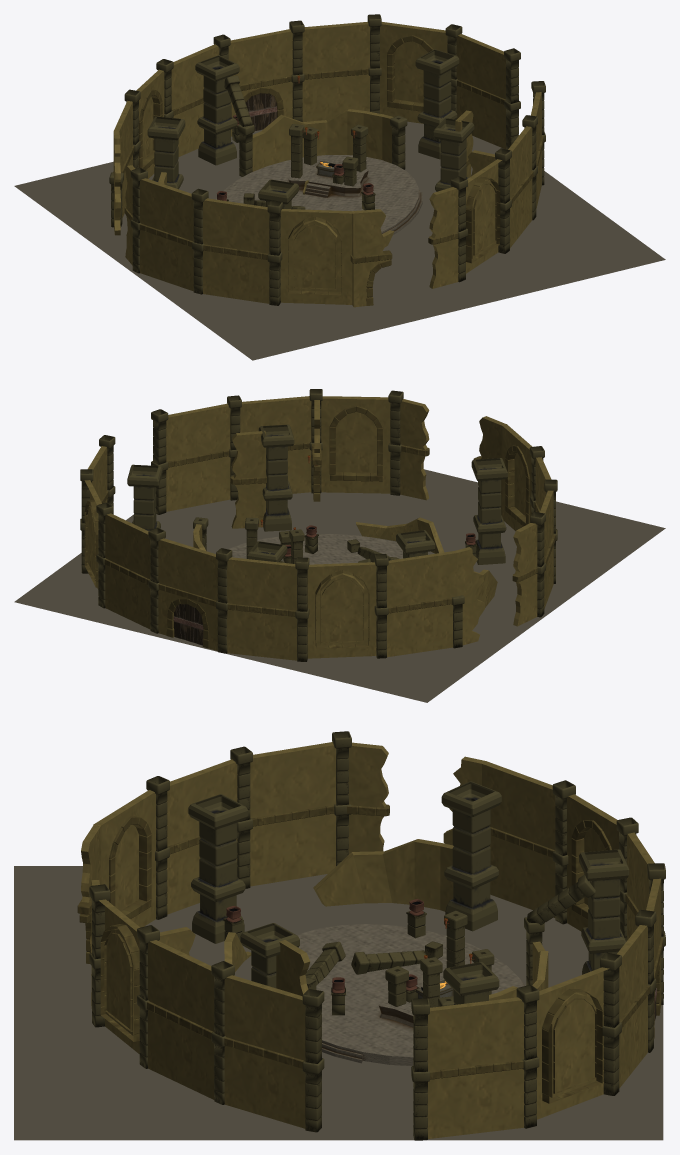
Rendered from Main_Salon_REF.fbx.
3 renders of one model, top to bottom at view 1: azimuth 30°, elevation 25°; view 2: azimuth 150°, elevation 25°; view 3: azimuth 270°, elevation 25°, orthographic. The views are drawn at different scales.
Visible parts, largest first — view 1: Plane, Main_Salon_Altar, Wall_Salon_4.003, Wall_1.011, Wall_1.006, Wall_1.010, Wall_Salon, Wall_Salon_4.002, Wall_1.004, Wall_Salon_5, Pillar.005, Wall_Salon_4.001 (+31 smaller); view 2: Plane, Wall_1.007, Wall_Salon_4.001, Wall_1.009, Wall_Salon_4, Wall_1.002, Wall_Salon_5, Wall_1.006, Wall_1.001, Pillar.002, Wall_3.004, Pillar.001 (+30 smaller); view 3: Plane, Wall_1.004, Main_Salon_Altar, Wall_1.010, Wall_1.002, Wall_1.001, Wall_Salon_4.002, Wall_1.009, Wall_Salon_3, Wall_Salon_4.003, Pillar.004, Pillar.002 (+38 smaller).
Boxes of the visible parts, box(x1,y1,x2,y2) form: Plane: box(14, 121, 665, 360); Main_Salon_Altar: box(216, 155, 422, 234); Wall_Salon_4.003: box(280, 209, 353, 304); Wall_1.011: box(202, 198, 269, 303); Wall_1.006: box(302, 21, 369, 121); Wall_1.010: box(139, 178, 193, 291); Wall_Salon: box(252, 109, 393, 171); Wall_Salon_4.002: box(380, 22, 447, 123); Wall_1.004: box(456, 34, 505, 148); Wall_Salon_5: box(228, 29, 292, 136); Pillar.005: box(195, 55, 239, 165); Wall_Salon_4.001: box(465, 159, 502, 273); Plane: box(14, 469, 665, 702); Wall_1.007: box(227, 557, 297, 660); Wall_Salon_4.001: box(321, 396, 390, 493); Wall_1.009: box(386, 551, 457, 657); Wall_Salon_4: box(307, 562, 376, 658); Wall_1.002: box(166, 403, 230, 511); Wall_Salon_5: box(158, 538, 217, 650); Wall_1.006: box(104, 513, 150, 629); Wall_1.001: box(240, 396, 311, 493); Pillar.002: box(471, 458, 507, 564); Wall_3.004: box(230, 430, 266, 528); Pillar.001: box(258, 424, 294, 531); Plane: box(14, 866, 663, 1140); Wall_1.004: box(427, 997, 524, 1138); Main_Salon_Altar: box(297, 924, 525, 1065); Wall_1.010: box(250, 742, 335, 886); Wall_1.002: box(224, 975, 305, 1128); Wall_1.001: box(147, 940, 214, 1099); Wall_Salon_4.002: box(536, 967, 609, 1119); Wall_1.009: box(482, 761, 555, 917); Wall_Salon_3: box(313, 839, 453, 911); Wall_Salon_4.003: box(93, 790, 156, 927); Pillar.004: box(441, 781, 501, 931); Pillar.002: box(188, 794, 248, 943).
Bounding box in the file's own units: 3829 × 1191 × 3829.
